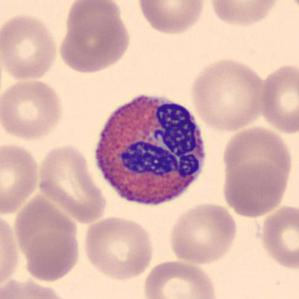Eosinophil: (88, 85, 213, 215)
RBC: (35, 141, 109, 225), (188, 55, 267, 133), (218, 124, 294, 201), (81, 214, 156, 282), (56, 12, 133, 75), (166, 201, 240, 265), (0, 75, 65, 142), (1, 11, 60, 83), (219, 161, 292, 218), (18, 225, 83, 284), (140, 258, 221, 299), (0, 140, 42, 216), (258, 61, 298, 136), (258, 203, 299, 271), (133, 0, 208, 36), (62, 0, 125, 40), (205, 0, 283, 28), (0, 274, 73, 299), (0, 209, 21, 293), (283, 0, 299, 18)
